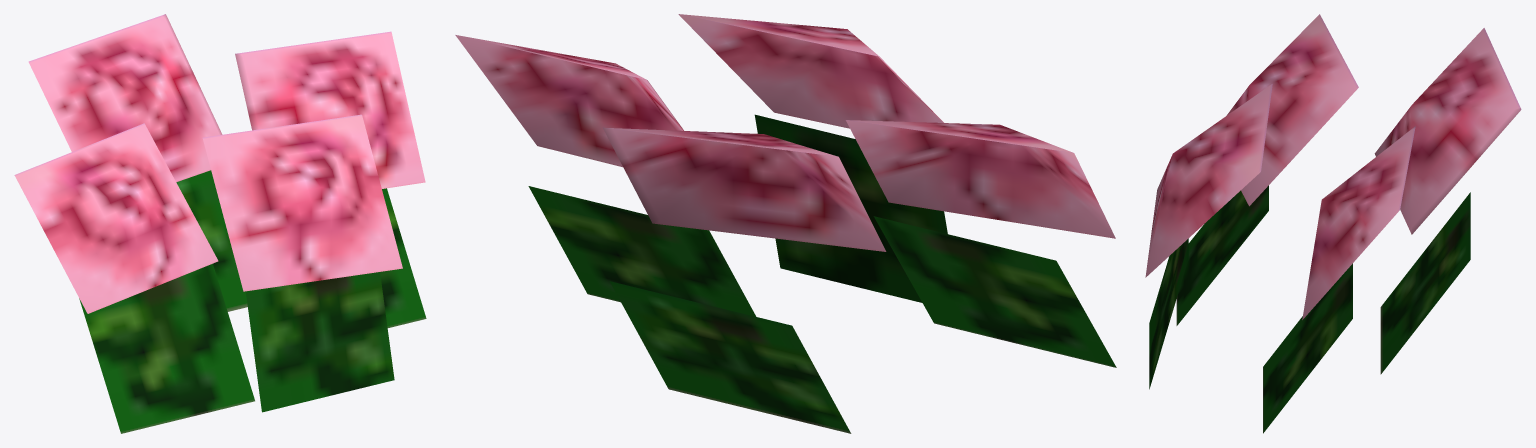
Rendered from flw_rose_pi.dae.
3 renders of one model, left to right at view 1: azimuth 30°, elevation 25°; view 2: azimuth 150°, elevation 25°; view 3: azimuth 270°, elevation 25°, orthographic. The views are drawn at different scales.
Parts seen in each view (by area): view 1: flw_rose_pi; view 2: flw_rose_pi; view 3: flw_rose_pi.
Boxes of the visible parts, x1,y1,x2,y2 form: flw_rose_pi: (14, 14, 426, 433); flw_rose_pi: (455, 14, 1116, 433); flw_rose_pi: (1145, 14, 1521, 433).
Bounding box in the file's own units: 33.43 × 19.21 × 25.27.
1 material, 1 textured.
